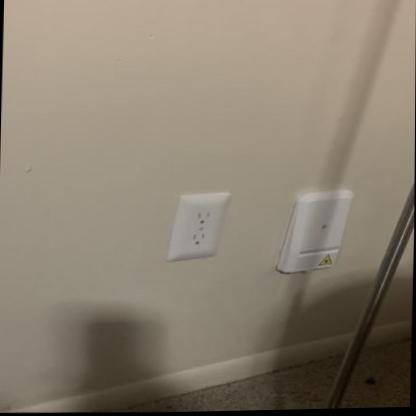OUTLET: (171, 190, 222, 260)
